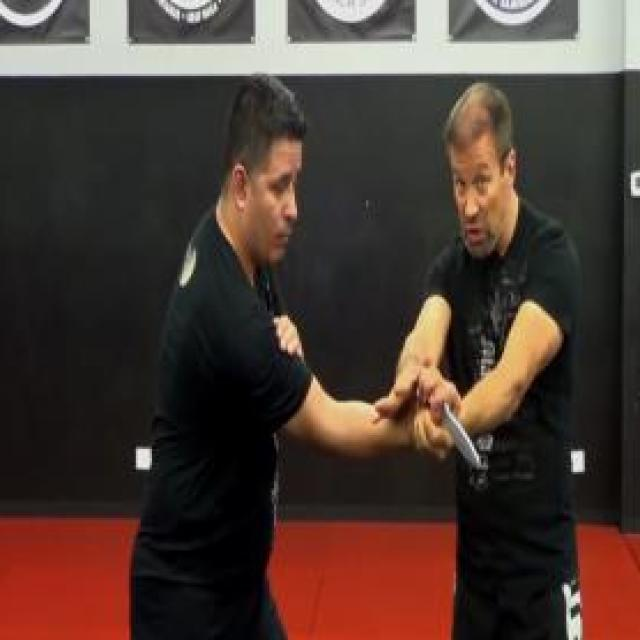knife: (419, 366, 485, 474)
